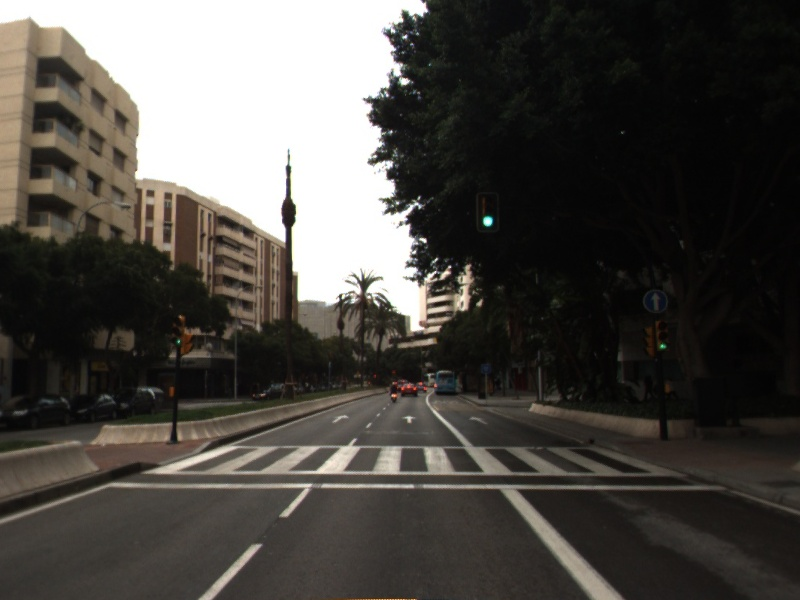STRAIGHT: (466, 414, 491, 426), (329, 413, 351, 425), (399, 413, 419, 425)
